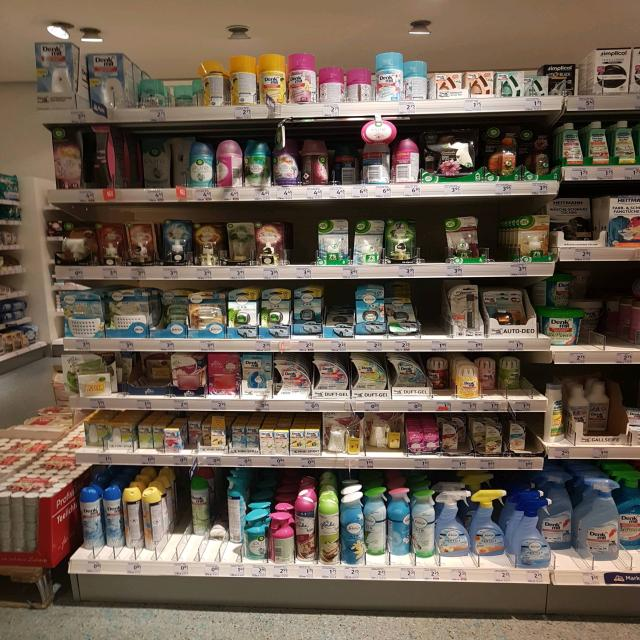void: (487, 206, 516, 260), (420, 280, 443, 338), (292, 214, 316, 264), (425, 208, 446, 264)
